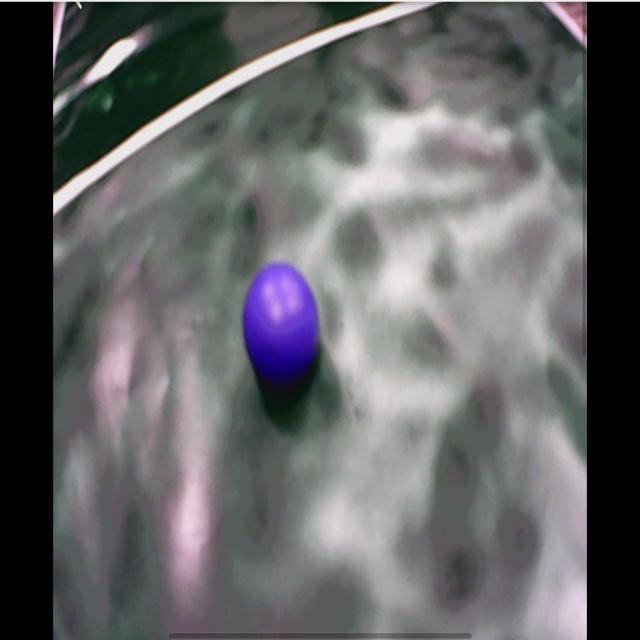ball: (245, 268, 317, 384)
